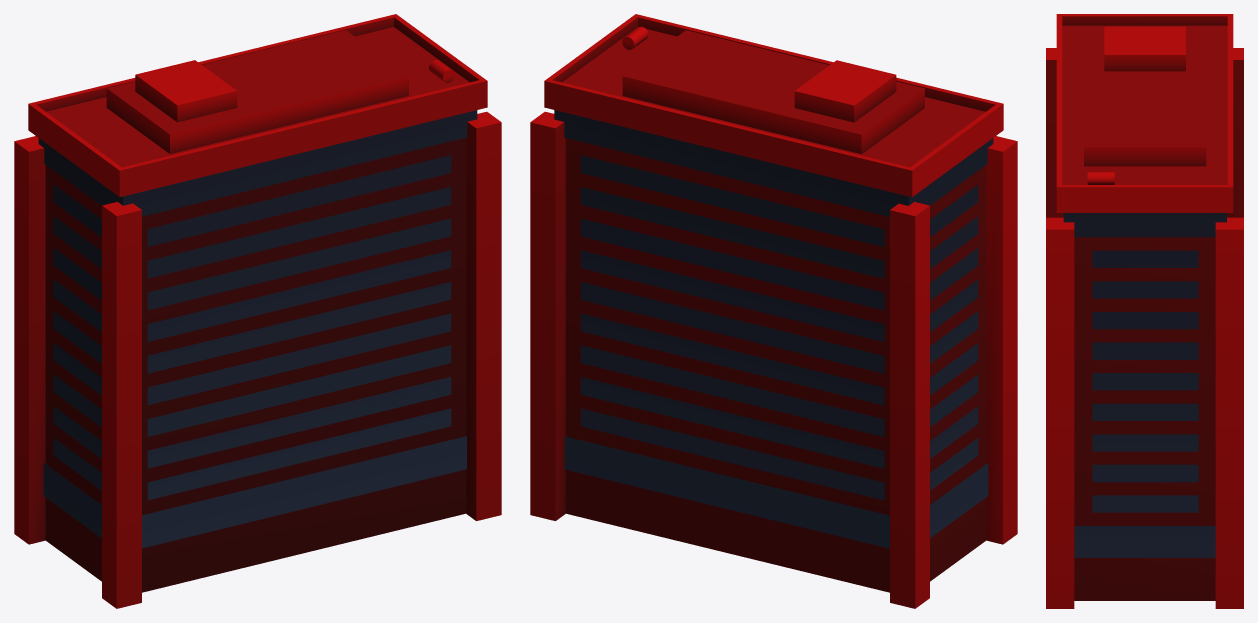
File: RC_ComBuilding8.fbx
3 views of the same model, side by side, from view 1: azimuth 30°, elevation 25°; view 2: azimuth 150°, elevation 25°; view 3: azimuth 270°, elevation 25° (orthographic). The views are drawn at different scales.
Visible parts, largest first — view 1: base.035, windowRefl.018; view 2: base.035, windowRefl.018; view 3: base.035, windowRefl.018.
Boxes of the visible parts, <box> form: base.035: <box>14,14,501,608</box>; windowRefl.018: <box>38,110,477,548</box>; base.035: <box>530,14,1017,608</box>; windowRefl.018: <box>554,110,993,548</box>; base.035: <box>1046,14,1243,608</box>; windowRefl.018: <box>1063,213,1226,557</box>.
Bounding box in the file's own units: 2337 × 2663 × 1077.
